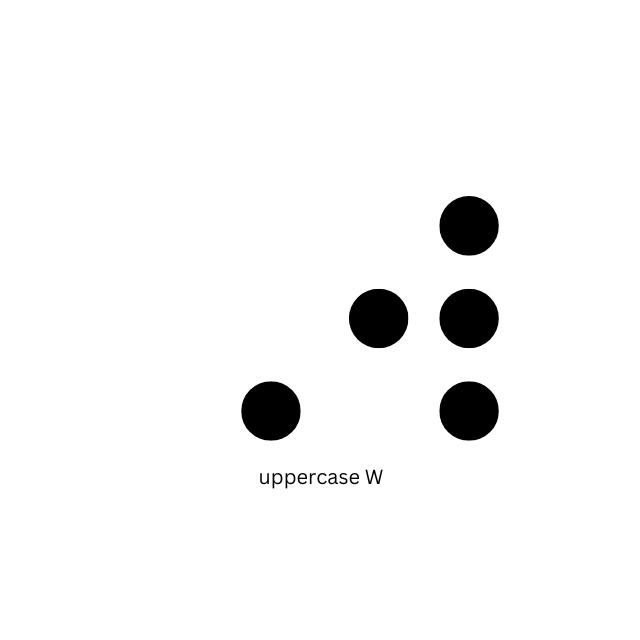capital_sign: (151, 198, 302, 442)
letter_W: (347, 196, 498, 440)
